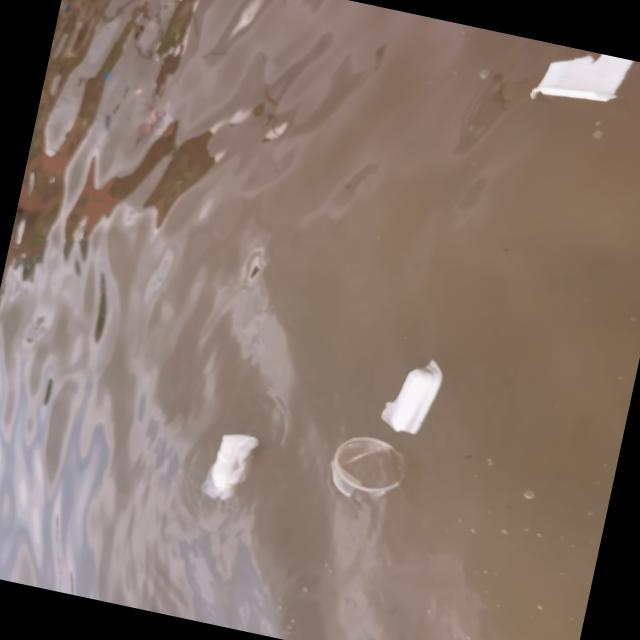foam: (526, 40, 640, 119), (375, 347, 456, 439)
